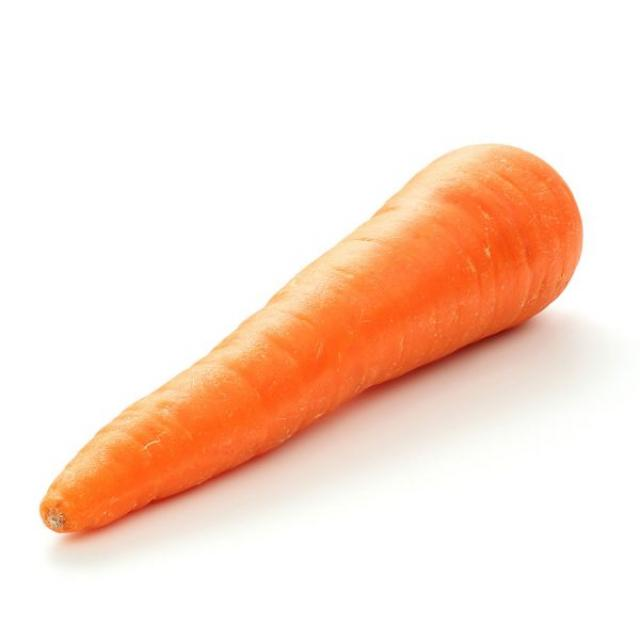Carrot: (42, 142, 586, 527)
